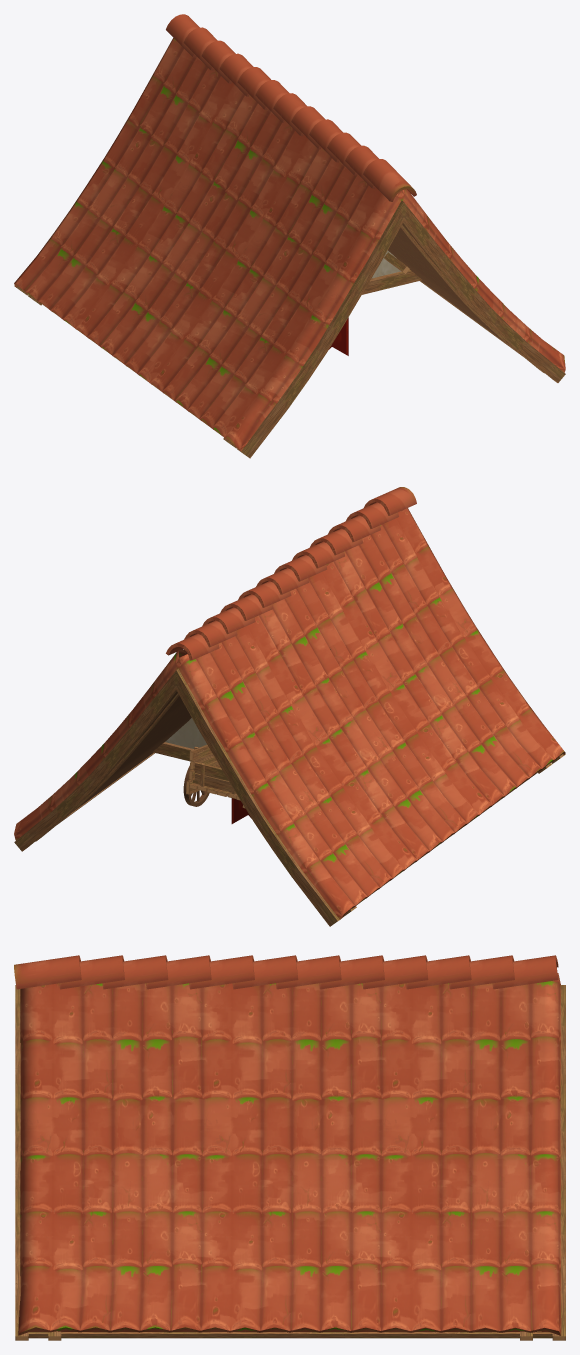
Rendered from aether_kit.glb.
The picture shows the model from 3 angles, top to bottom: view 1: azimuth 30°, elevation 25°; view 2: azimuth 150°, elevation 25°; view 3: azimuth 270°, elevation 25°; orthographic projection. The views are drawn at different scales.
Parts seen in each view (by area): view 1: Roof_RoundTiles_6x8, Roof_Front_Brick6; view 2: Roof_RoundTiles_6x8, Prop_Wagon, Roof_Front_Brick6; view 3: Roof_RoundTiles_6x8.
Part boxes in pixels (<box>): Roof_RoundTiles_6x8: <box>14,14,565,458</box>; Roof_Front_Brick6: <box>362,250,422,294</box>; Roof_RoundTiles_6x8: <box>14,487,565,926</box>; Prop_Wagon: <box>183,744,245,808</box>; Roof_Front_Brick6: <box>152,718,206,761</box>; Roof_RoundTiles_6x8: <box>14,955,565,1340</box>.
Bounding box in the file's own units: 8.25 × 6.44 × 9.68.
Materials: 11 (10 with a texture image).
